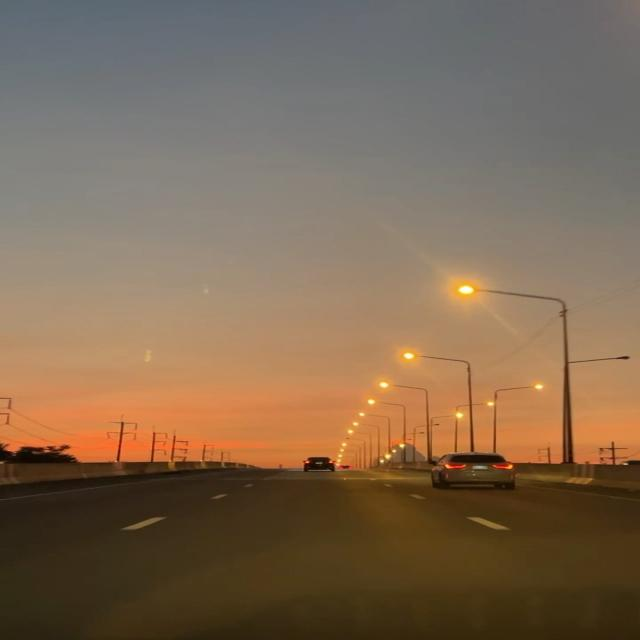Poth-hole: (194, 485, 565, 601)
